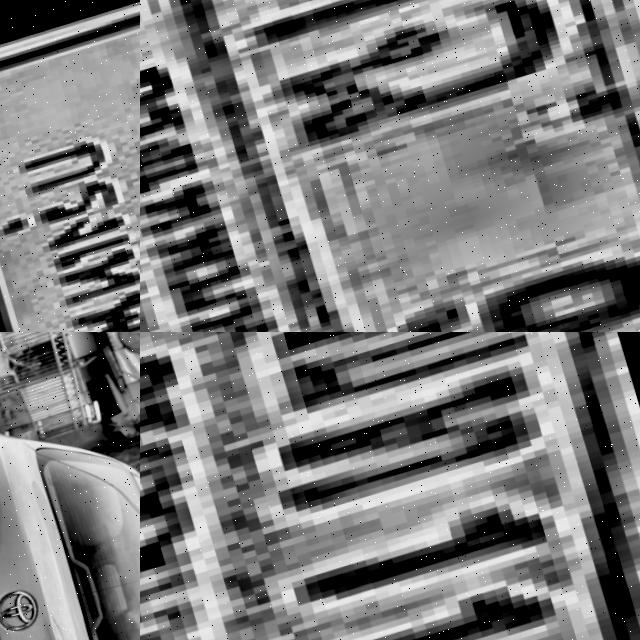license-plate: (140, 0, 640, 332), (140, 332, 640, 640), (0, 0, 140, 332)
